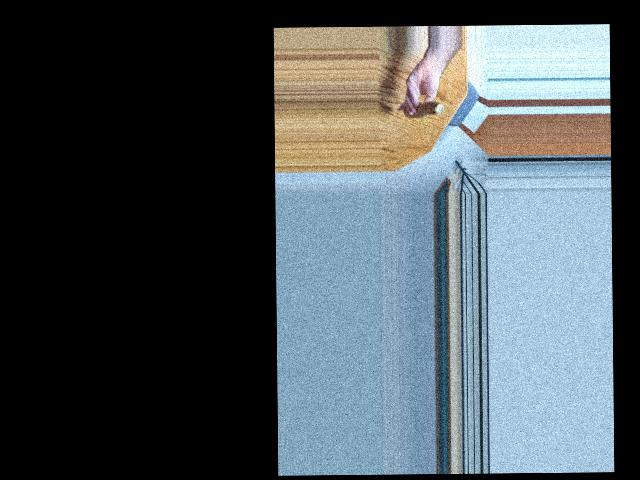sweet_potato: (405, 100, 437, 118)
